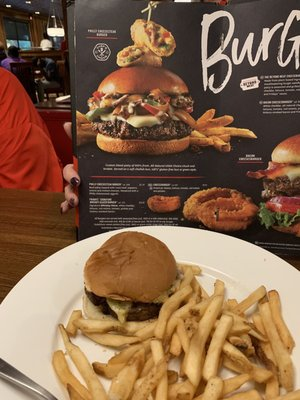sandwich: (0, 356, 60, 400)
soup: (248, 133, 300, 237)
